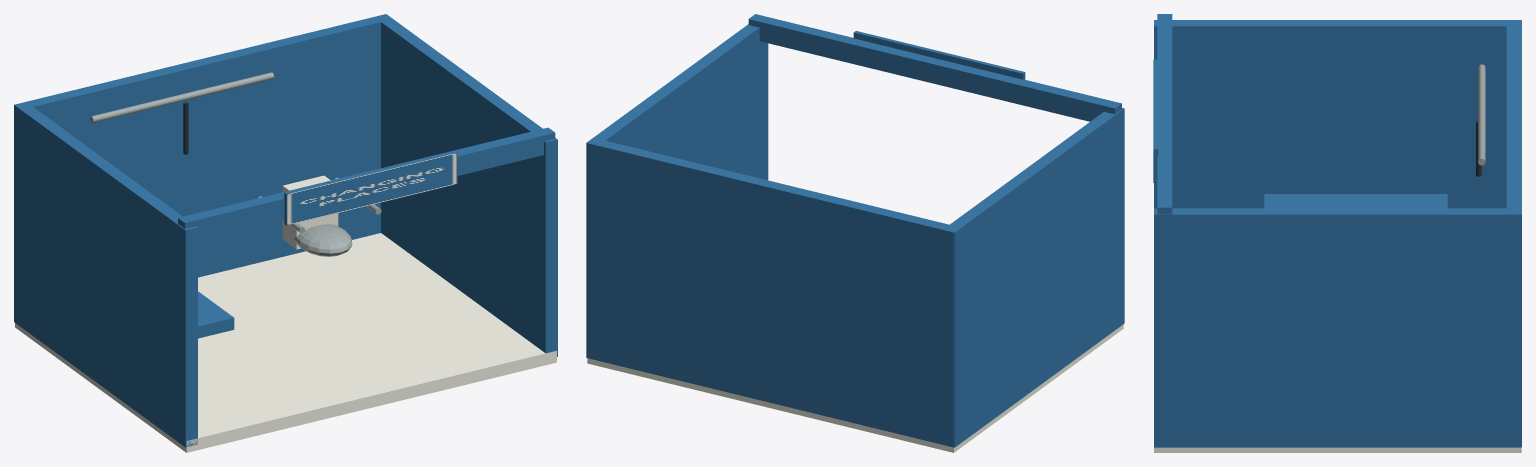
File: scendance-plan-changing-places-toilet.glb
3 views of the same model, side by side, from view 1: azimuth 30°, elevation 25°; view 2: azimuth 150°, elevation 25°; view 3: azimuth 270°, elevation 25° (orthographic). The views are drawn at different scales.
Size of the model in its own units: 4.57 by 2.76 by 3.66.
Materials: 5 (1 with a texture image).
